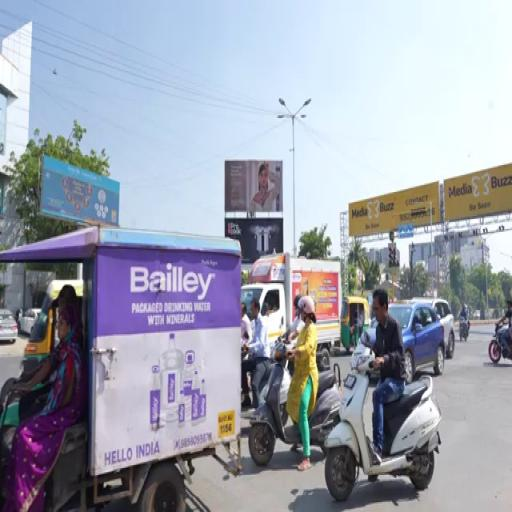Car: (388, 302, 445, 383), (412, 298, 455, 358), (0, 309, 18, 344), (19, 309, 40, 334)
